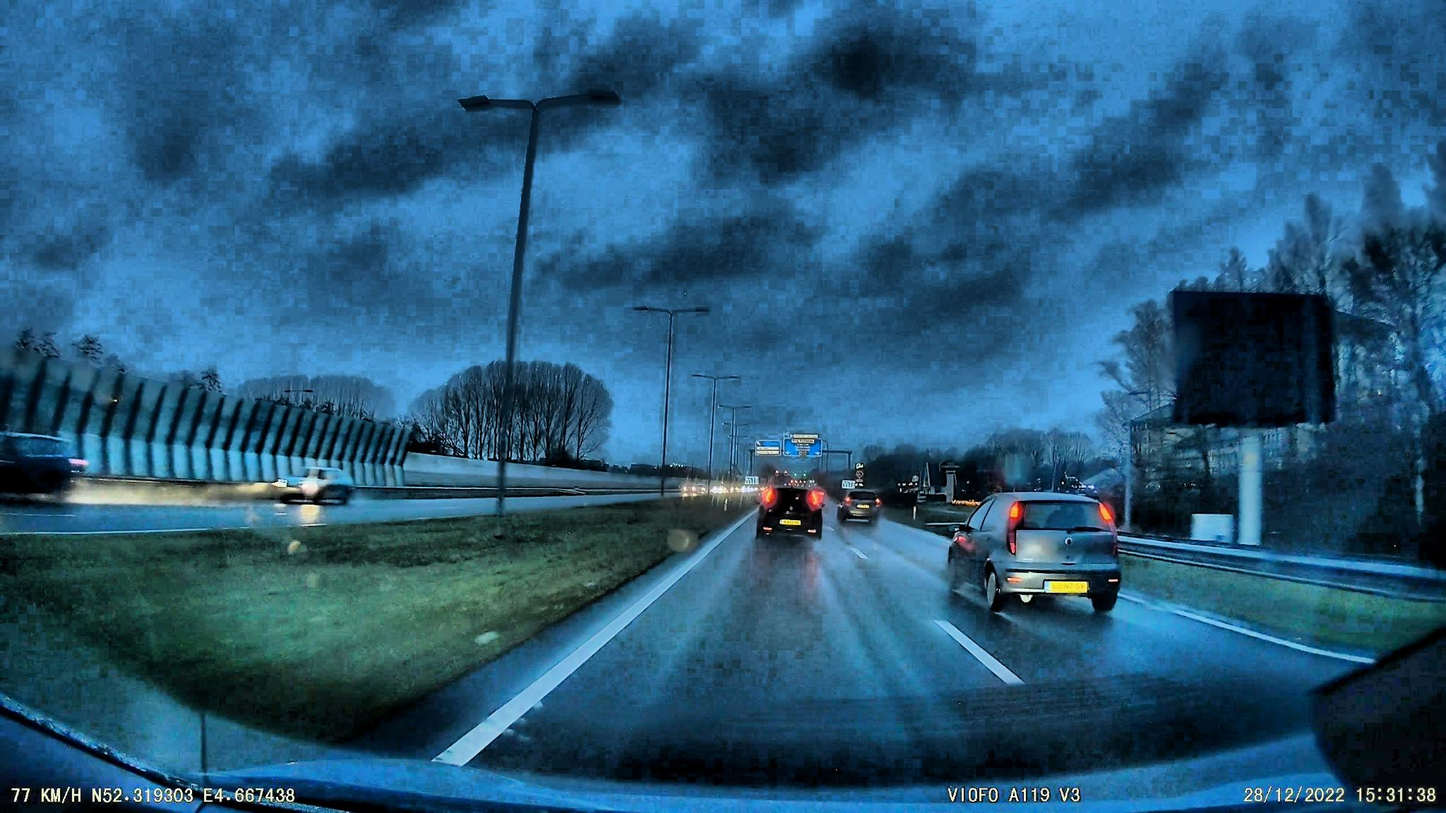Roads: (403, 510, 1356, 805)
